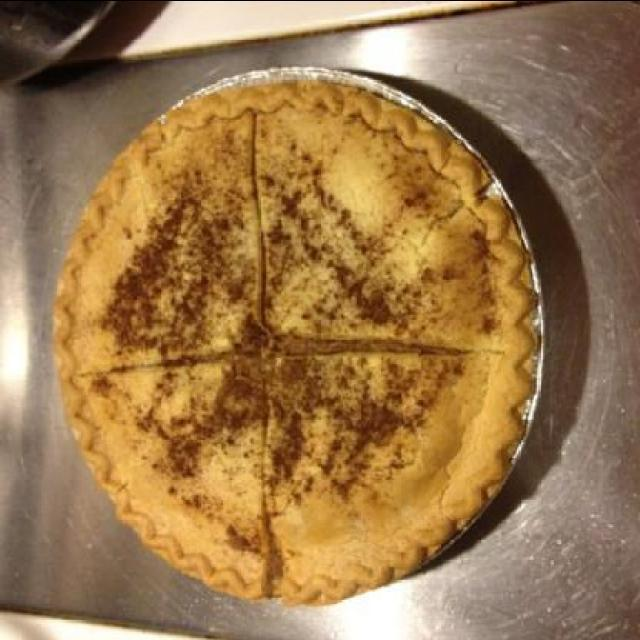Apple: (63, 81, 514, 594)
